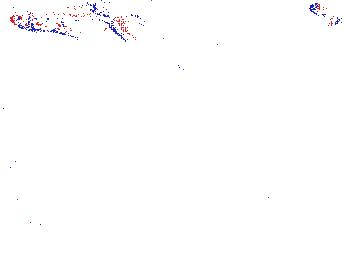X-ray fish: (227, 162, 245, 197)
glassfish: (78, 1, 194, 70)
redtail glassfish: (8, 6, 133, 44), (309, 1, 346, 27)
